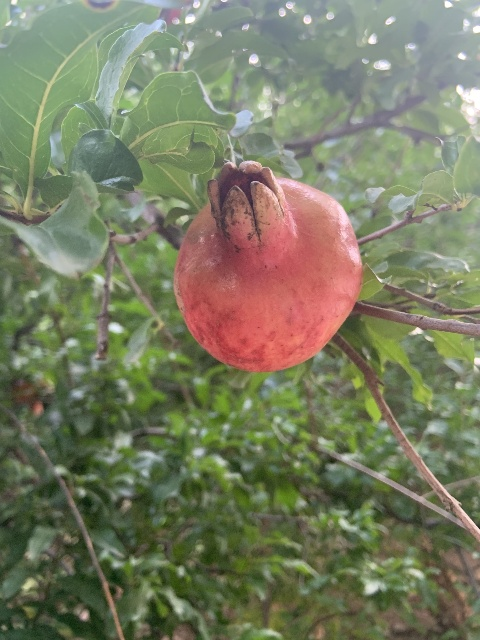ripe: (173, 160, 364, 371)
